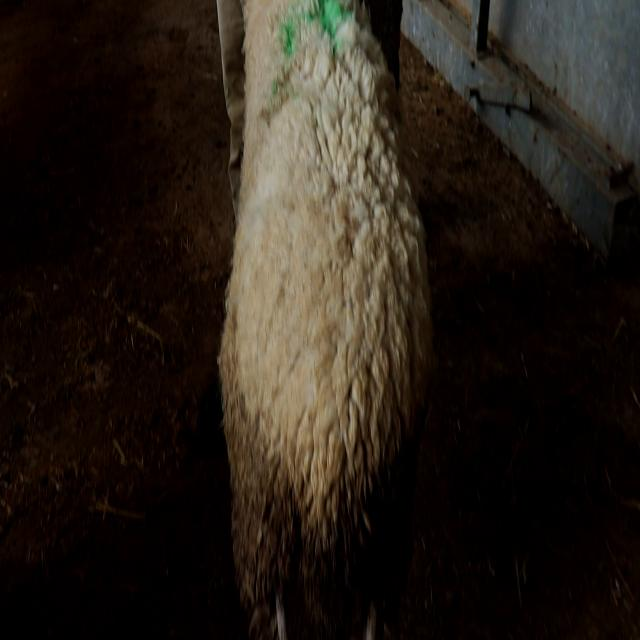Score_3: (217, 0, 435, 639)
